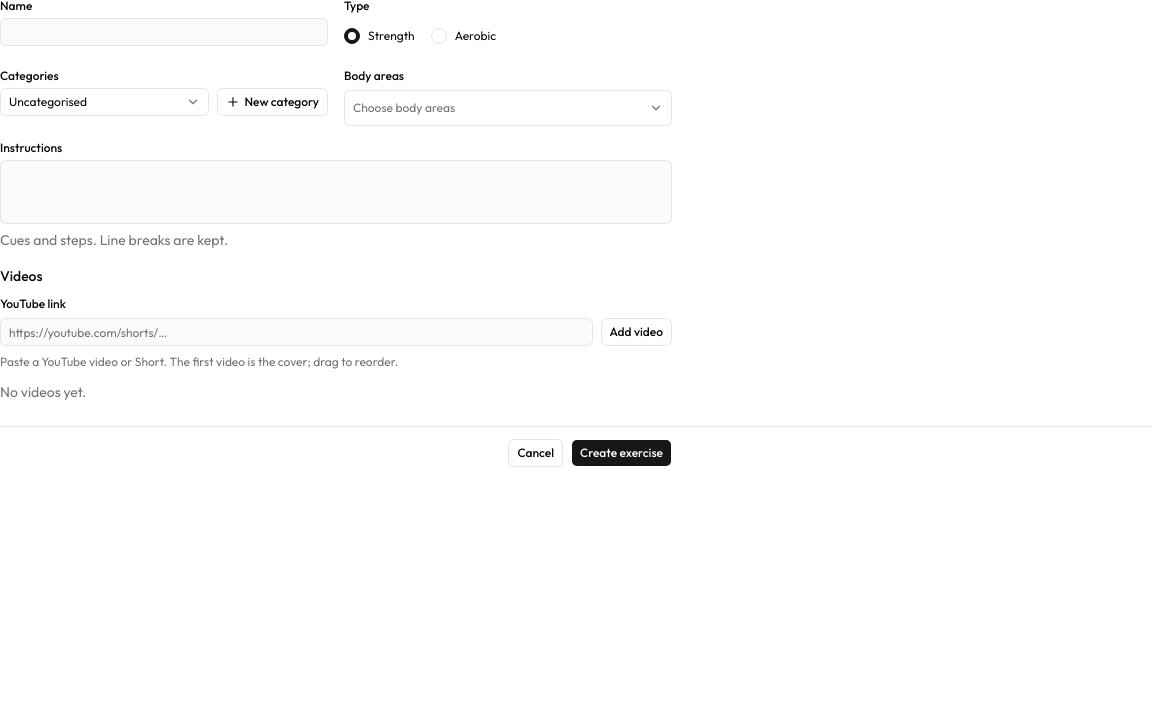
ExerciseForm › groups categories with their sub-categories
Click the button named "Categories": {"x": 105, "y": 102} [0,88,210,116]
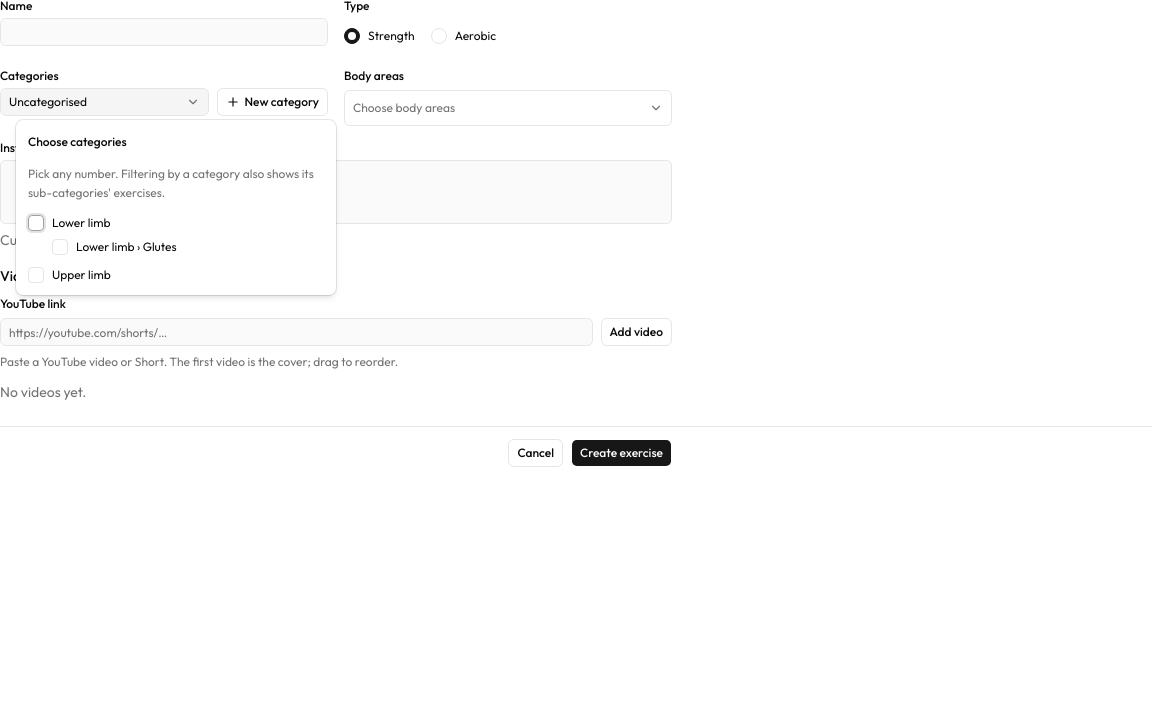
Check: the element "Lower limb" is shown, box [28,214,177,254]
Check: the checkbox named "Lower limb › Glutes" next to "Lower limb › Glutes" is shown, box [52,238,68,254]
Check: the element "Upper limb" is shown, box [28,266,111,282]
